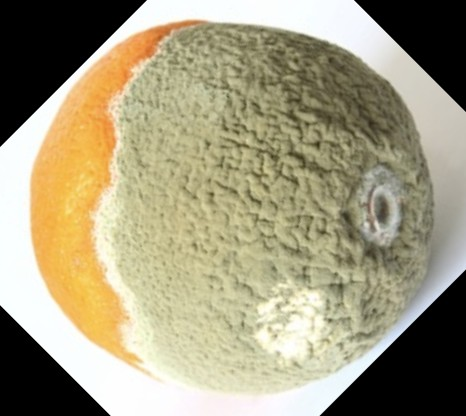rotten_orange: (32, 21, 433, 395)
